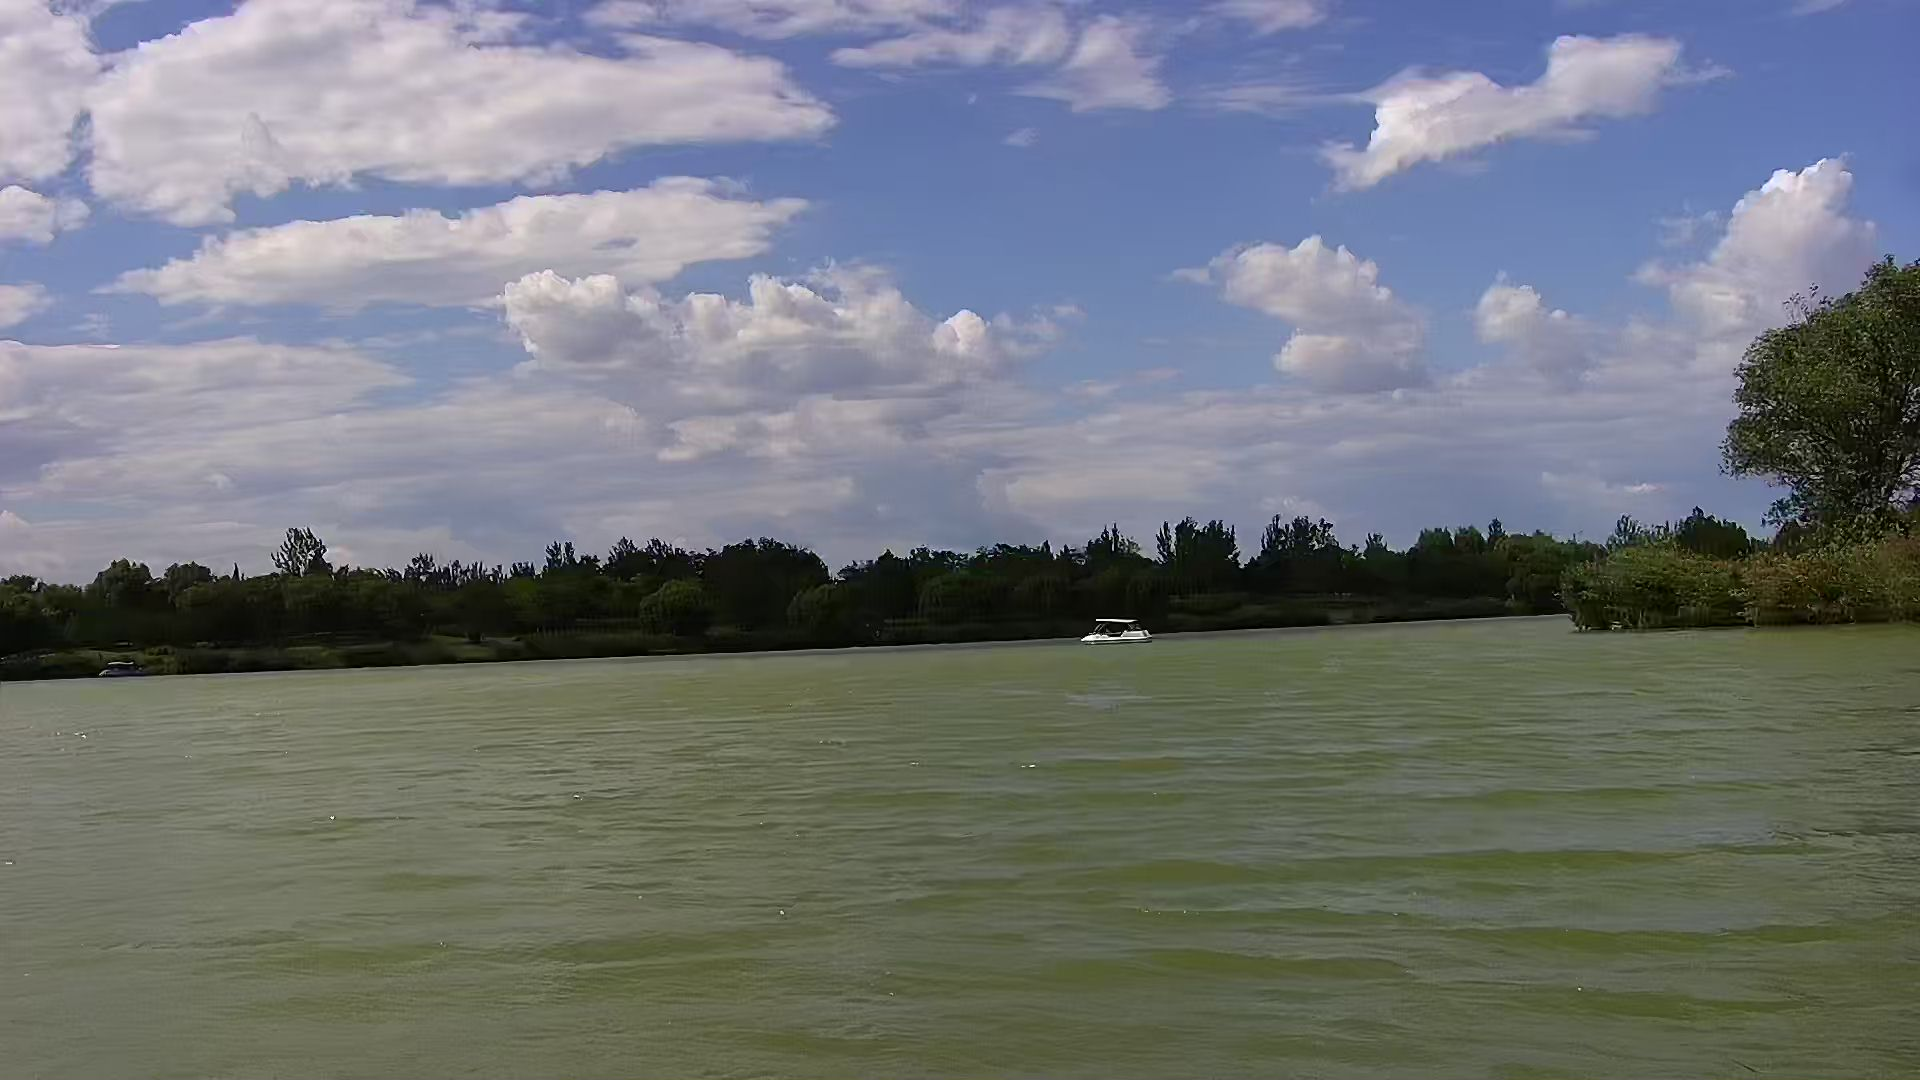boat: (1077, 609, 1155, 644), (98, 654, 148, 682)
